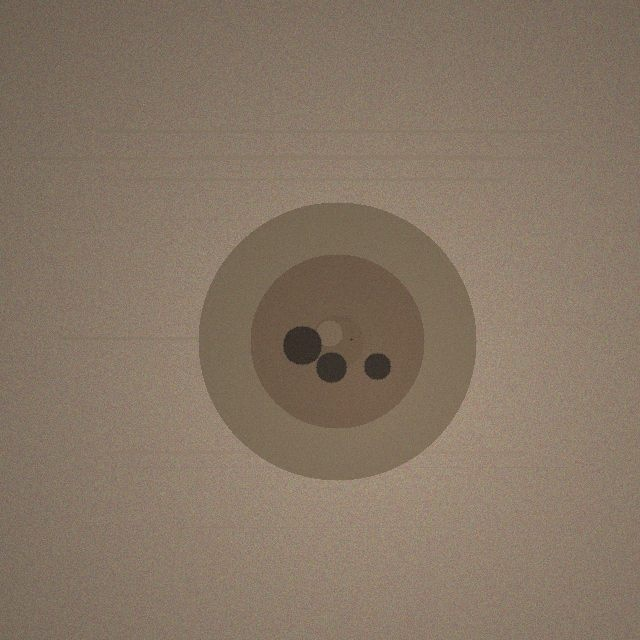shrinkage: (198, 202, 476, 480)
